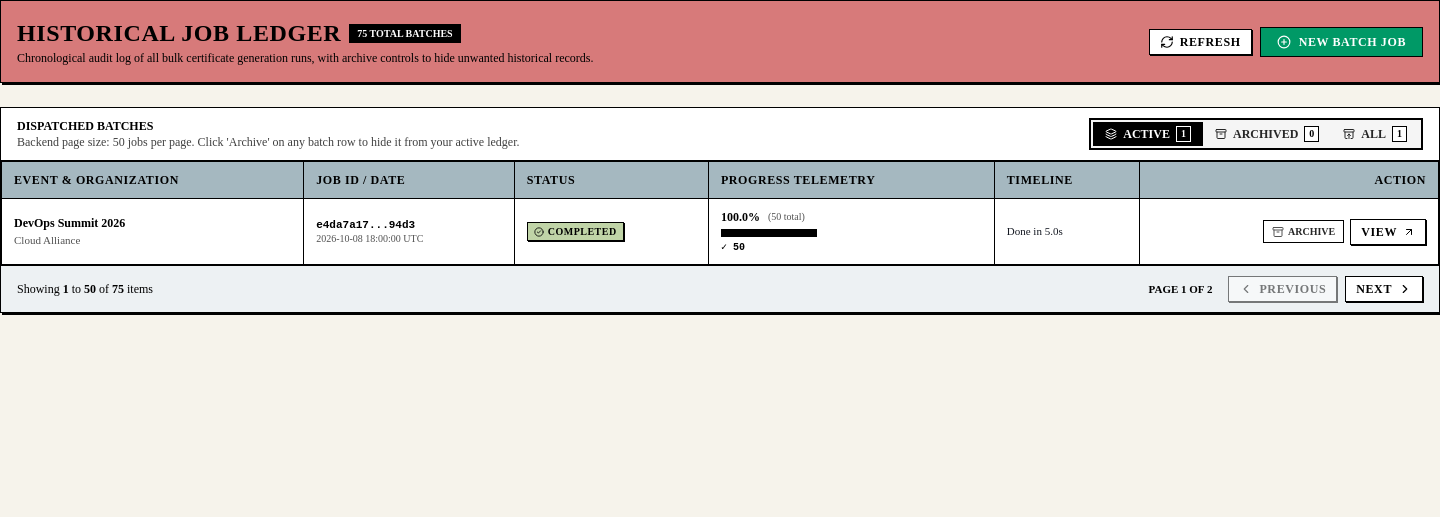
Scenario: JobHistoryPage › allows archiving a batch and restoring it via the Archived tab
Expected: the text "DevOps Summit 2026" is shown, top-left (14, 215), bottom-right (125, 231)
Click the button with aria-label "archive job" at (1304,232), box top-left (1263, 220), bottom-right (1344, 243)
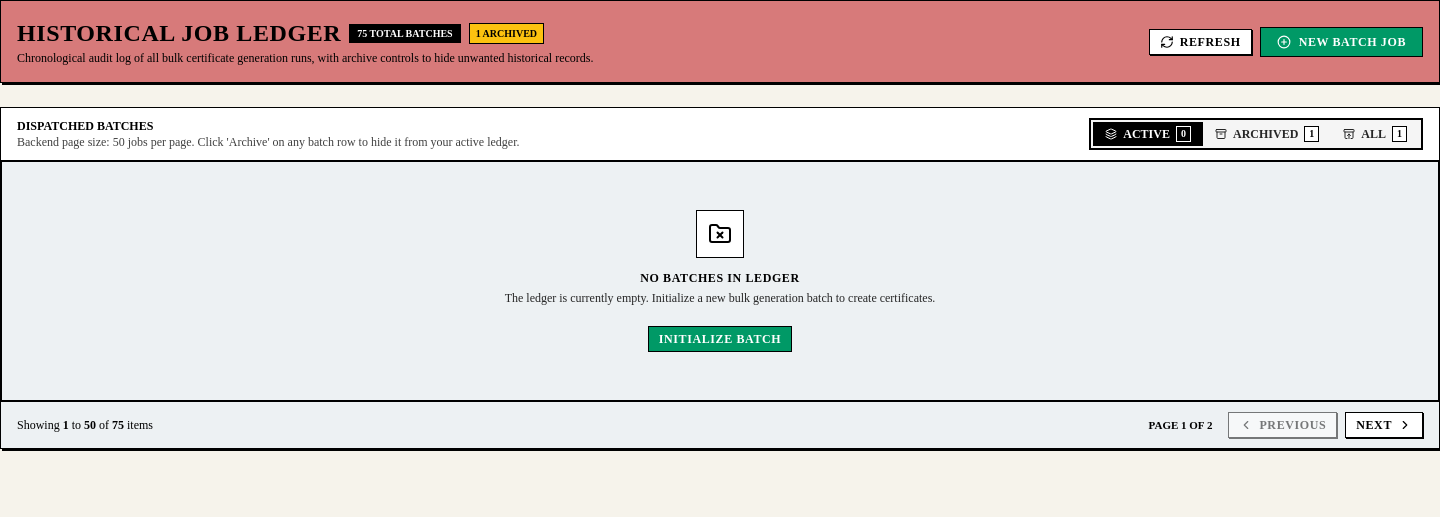
Result: the text "DevOps Summit 2026" is gone
Result: the heading "No Batches in Ledger" is shown at top-left (640, 271), bottom-right (800, 285)
Click the button "Archived 1" at (1267,134), box top-left (1203, 122), bottom-right (1331, 146)
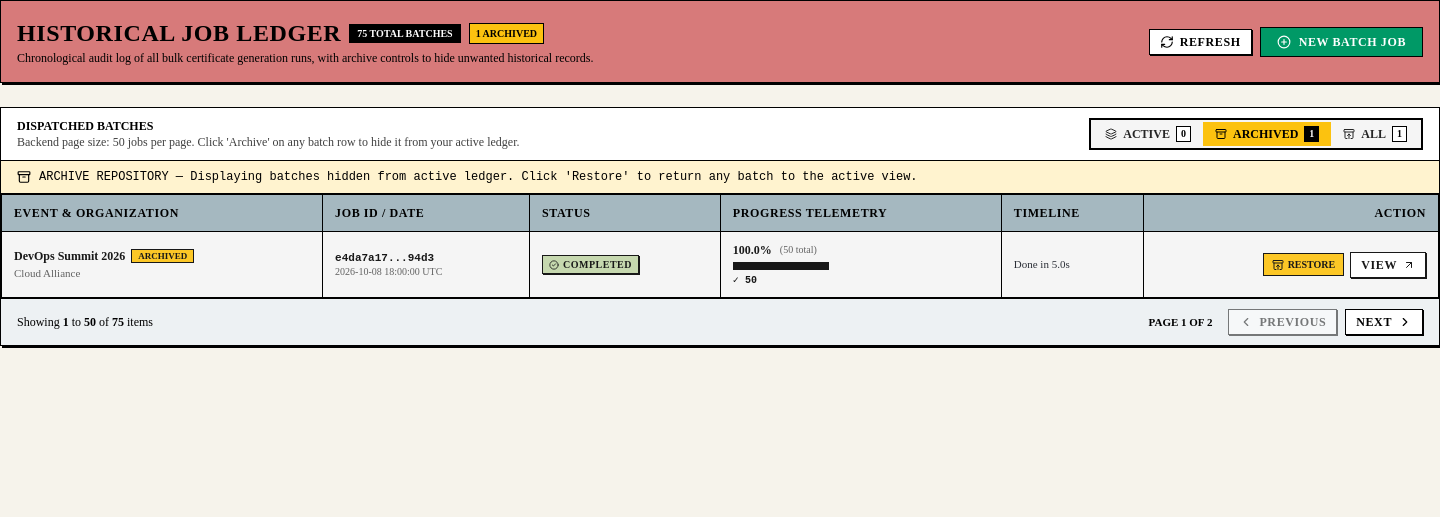
Expected: the text "1 ARCHIVED" is shown, top-left (469, 22), bottom-right (544, 44)
Result: the text "DevOps Summit 2026" is shown at top-left (14, 248), bottom-right (125, 264)
Click the button with aria-label "restore job" at (1303,265), box top-left (1263, 253), bottom-right (1344, 276)
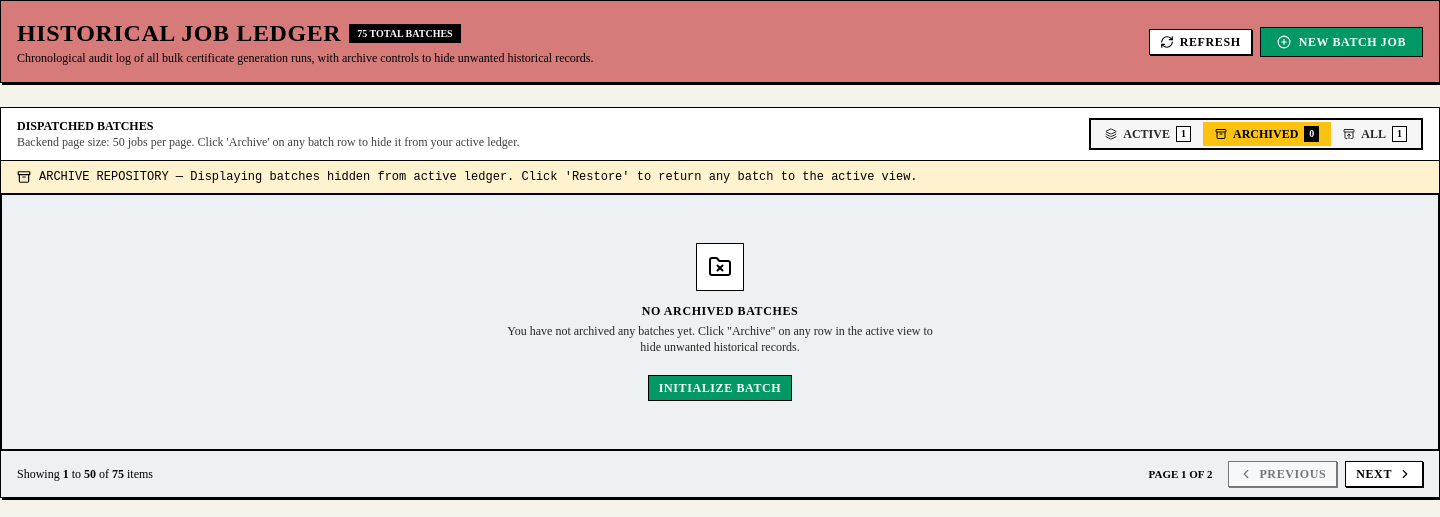
Result: the heading "No Archived Batches" is shown at top-left (642, 304), bottom-right (798, 318)
Click the button "Active 1" at (1148,134), box top-left (1093, 122), bottom-right (1203, 146)
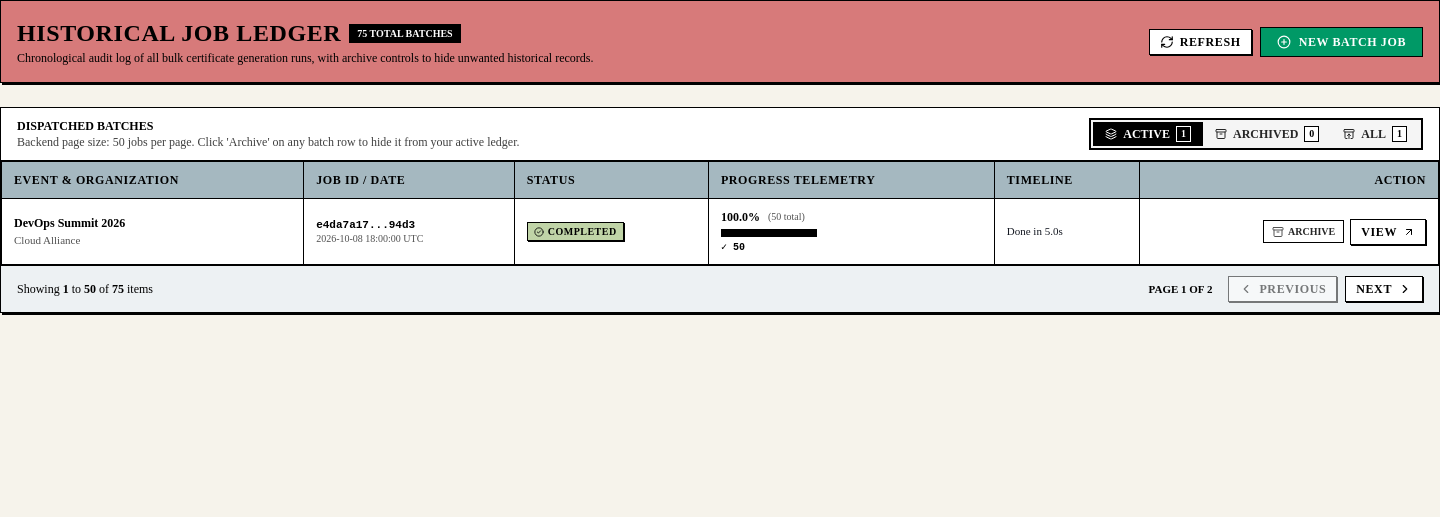
Result: the text "DevOps Summit 2026" is shown at top-left (14, 215), bottom-right (125, 231)
